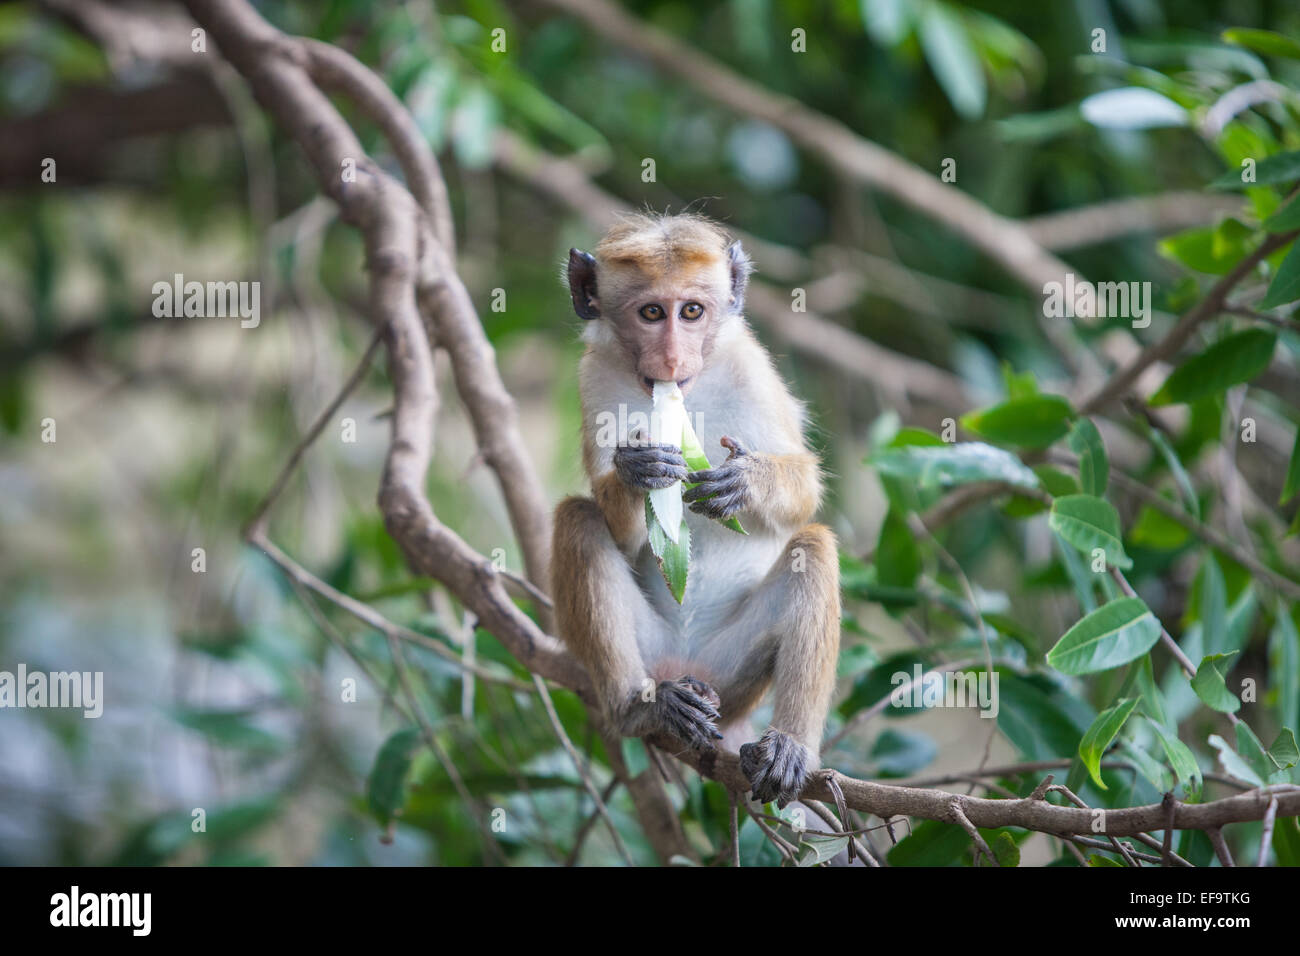Monkey: (539, 181, 868, 820)
